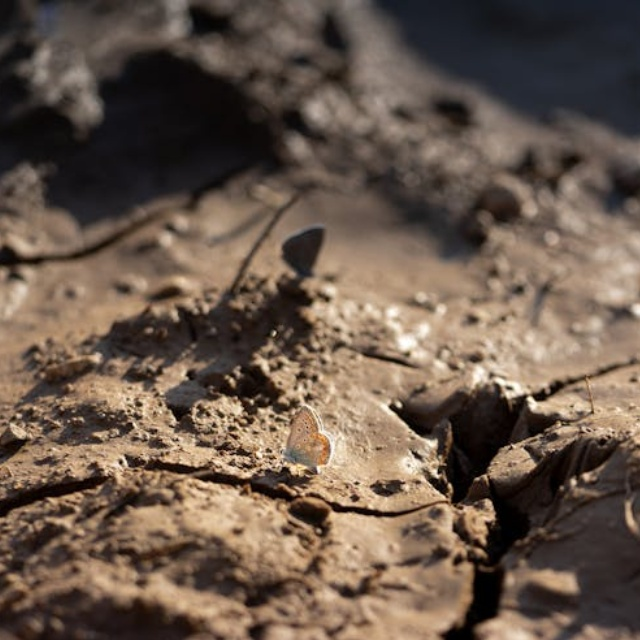深大裂缝: (426, 305, 618, 640)
网状裂隙: (167, 0, 640, 527), (245, 38, 640, 640), (400, 0, 640, 447), (114, 0, 377, 381)
